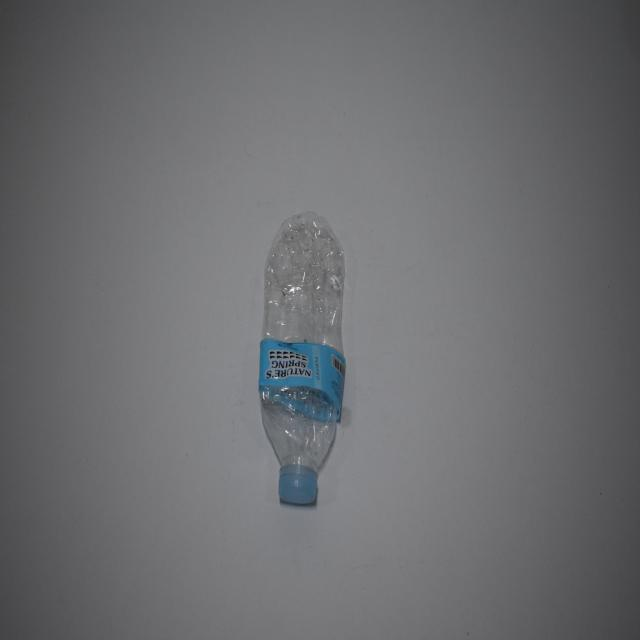bottle: (257, 201, 352, 510)
